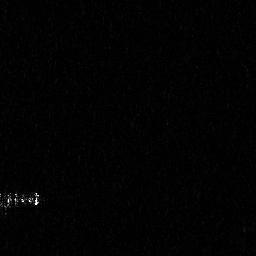ship: (1, 189, 40, 214)
